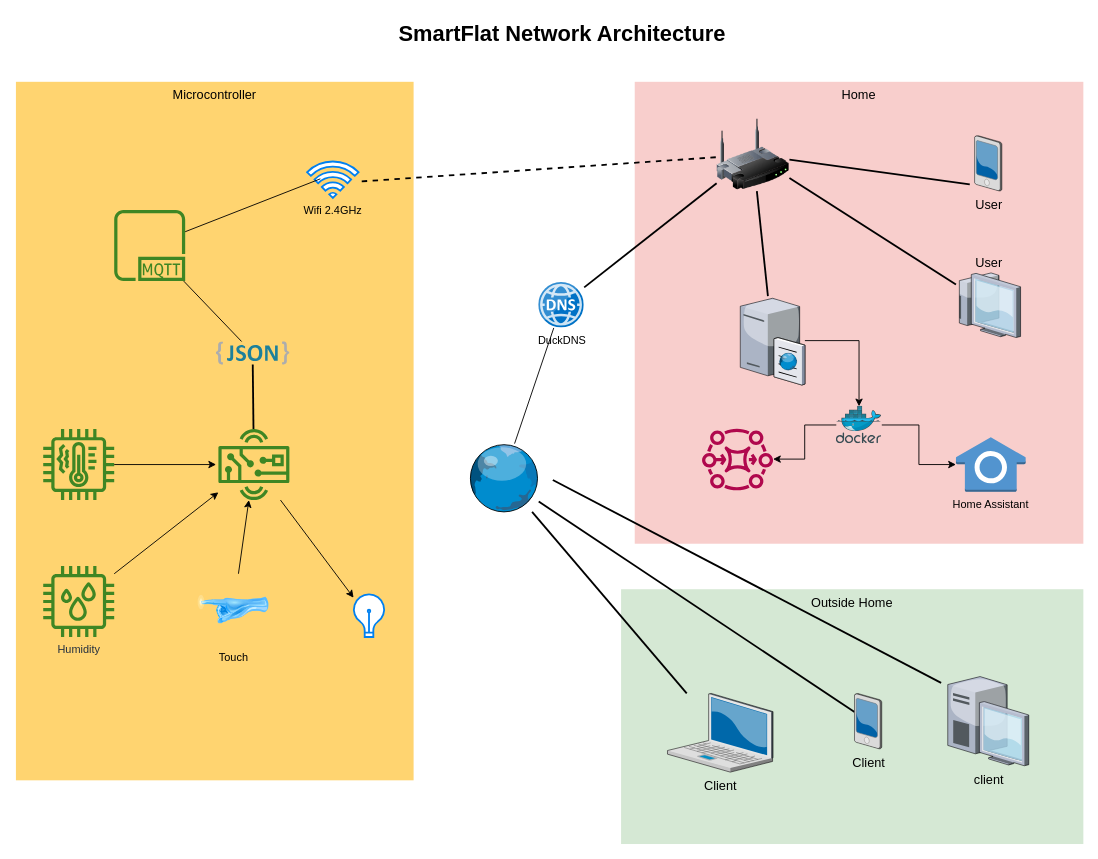
This 1098x859 diagram has some shape labels left out. Here are the shapes that lost their labels. From the top down, the box of each, then its label:
(716, 118, 789, 191): Router
(740, 296, 804, 384): Home Server
(43, 429, 114, 500): Temperture
(218, 429, 289, 500): NodeMCU Microcontroller
(467, 443, 538, 511): Internet
(702, 423, 773, 494): MQTT Broker
(351, 593, 386, 637): Light
